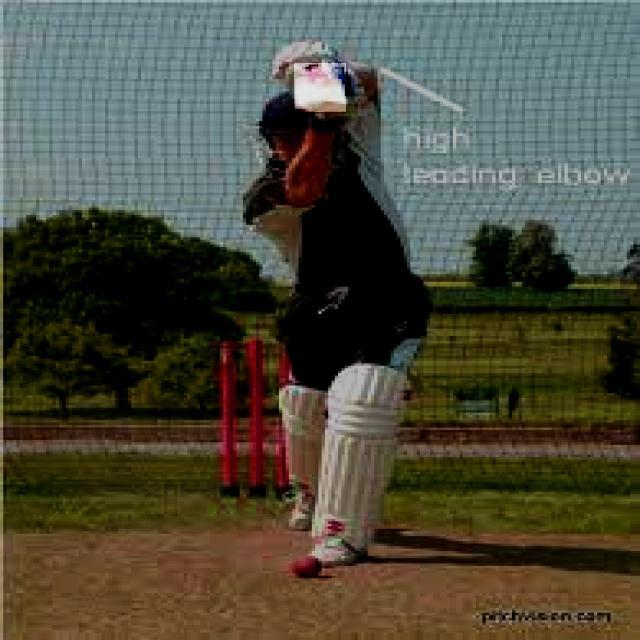bat: (294, 56, 349, 111)
toe: (295, 94, 346, 111)
